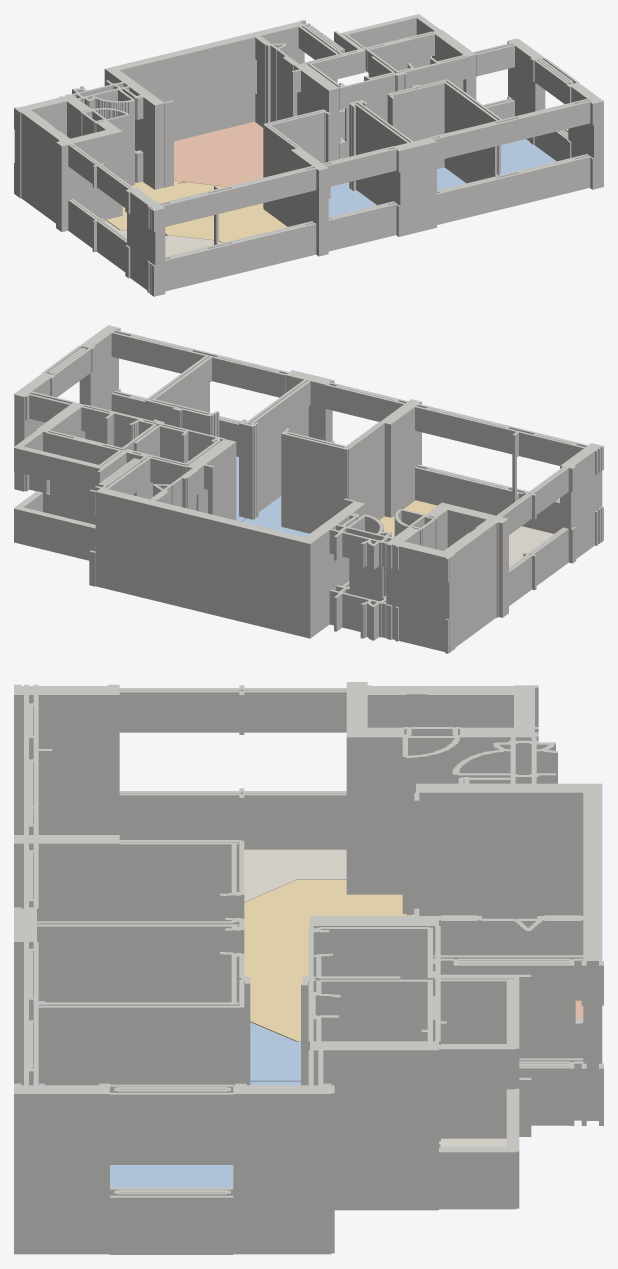
3 renders of one model, top to bottom at view 1: azimuth 30°, elevation 25°; view 2: azimuth 150°, elevation 25°; view 3: azimuth 270°, elevation 25°, orthographic. The views are drawn at different scales.
Parts seen in each view (by area): view 1: walls, room:kitchen:0, room:living:8, room:bedroom:4, room:bedroom:5, room:other:7, room:bedroom:3; view 2: walls, room:other:7, room:bedroom:5, room:living:8; view 3: walls, room:living:8, room:other:7, room:bedroom:4, room:bedroom:5.
Part boxes in pixels (box(x1,y1,x2,y2)): walls: box(14, 14, 603, 296); room:kitchen:0: box(174, 121, 263, 186); room:living:8: box(106, 181, 287, 242); room:bedroom:4: box(501, 139, 556, 174); room:bedroom:5: box(328, 182, 376, 216); room:other:7: box(105, 220, 222, 256); room:bedroom:3: box(437, 167, 465, 190); walls: box(14, 325, 603, 653); room:other:7: box(509, 526, 553, 566); room:bedroom:5: box(242, 496, 309, 536); room:living:8: box(379, 500, 437, 537); walls: box(14, 682, 603, 1254); room:living:8: box(244, 880, 414, 1041); room:other:7: box(244, 849, 346, 904); room:bedroom:4: box(110, 1165, 233, 1187); room:bedroom:5: box(39, 1001, 300, 1081).
Size of the model in its own units: 15.47 by 2.8 by 9.35.
